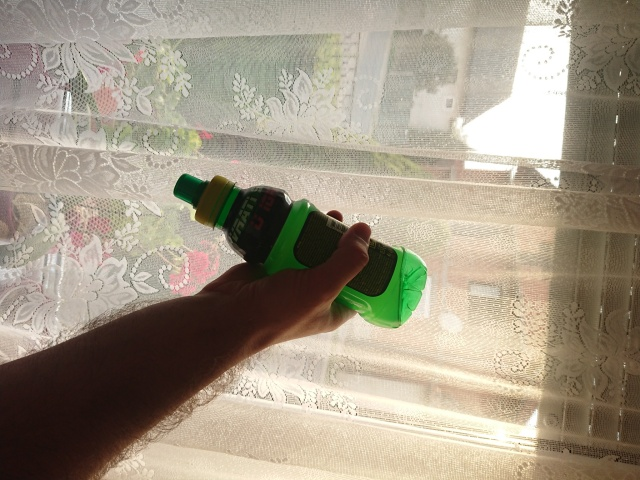Vindi Iso Sport Lemon-Grapefruit 500mL: (170, 171, 430, 331)
